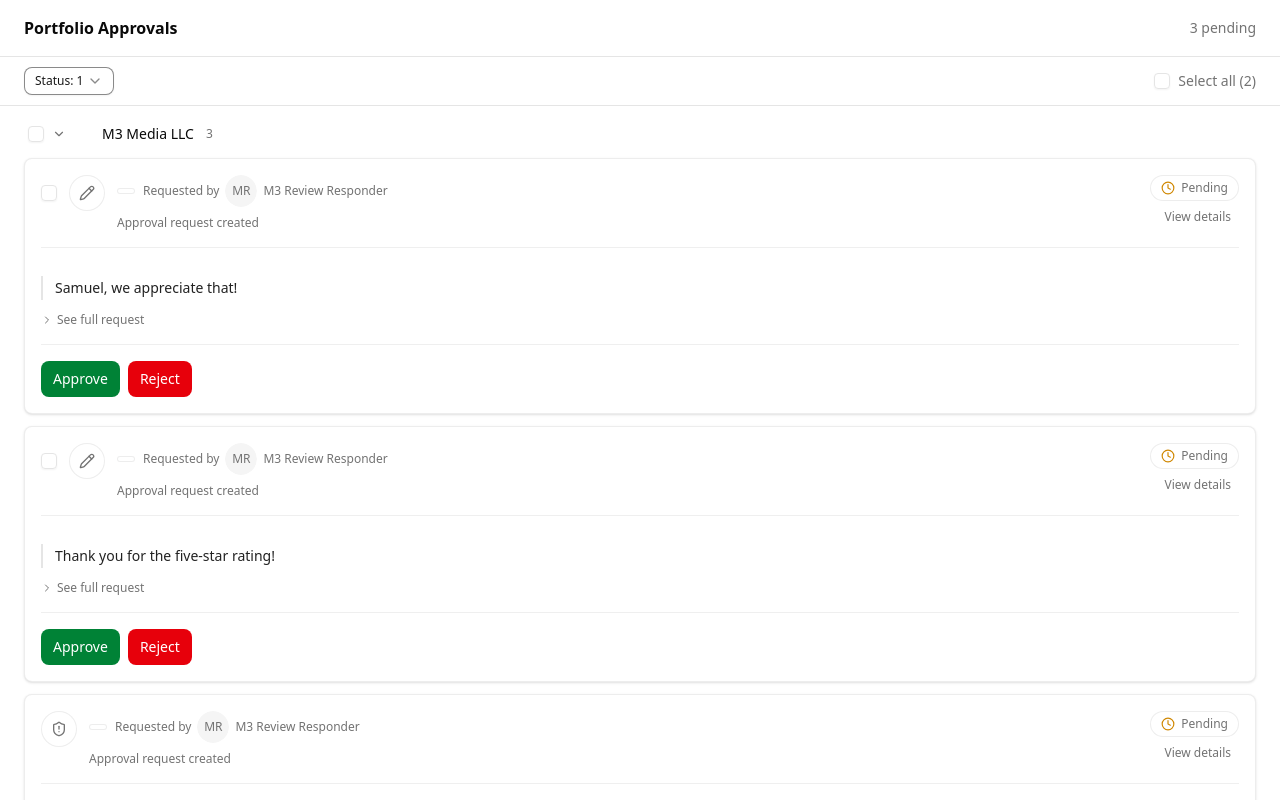
Test: PortfolioApprovals › selects every decidable request at once and approves them together
Step 1. Click the checkbox named "Select all approvals" → click(1162, 81), box x1=1154 y1=73 x2=1170 y2=89
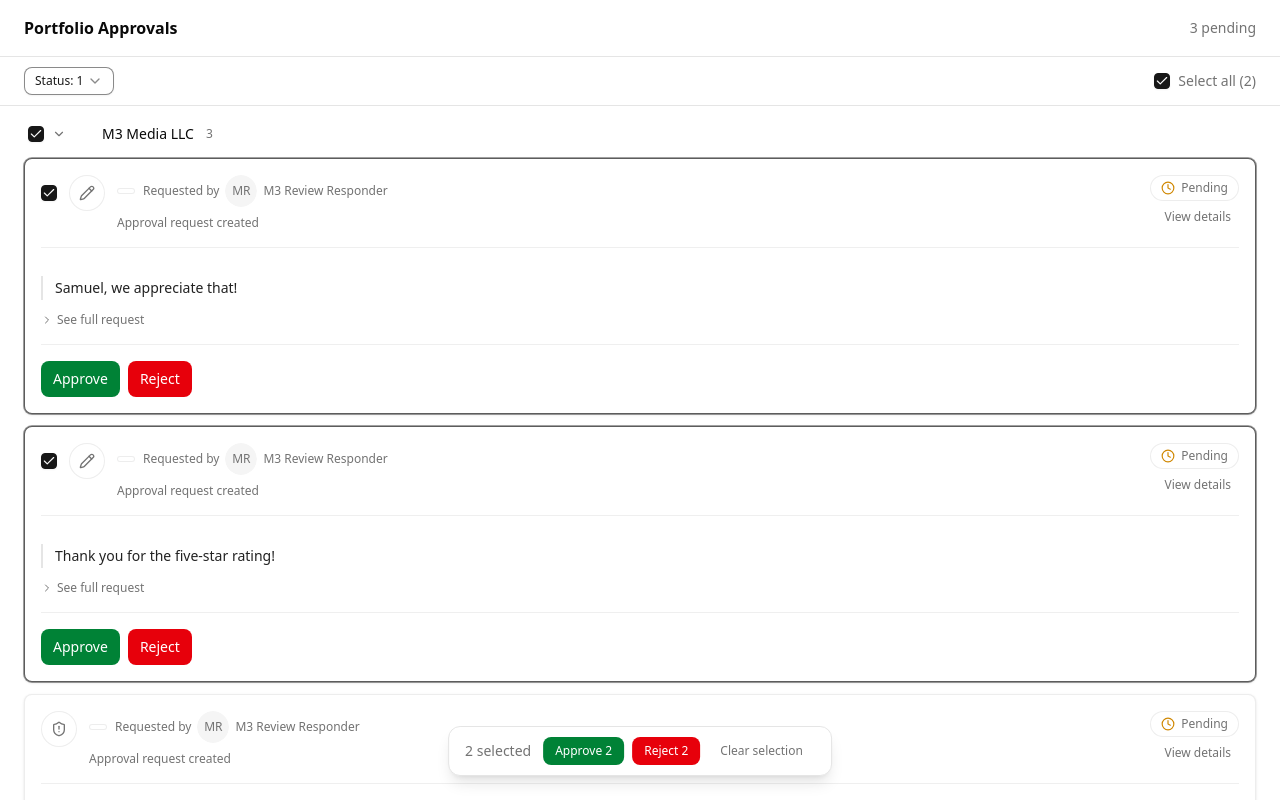
expect the text "2 selected" is shown: met, box x1=465 y1=741 x2=531 y2=761
Step 2. Click the button "Approve 2" → click(584, 751), box x1=543 y1=737 x2=624 y2=765
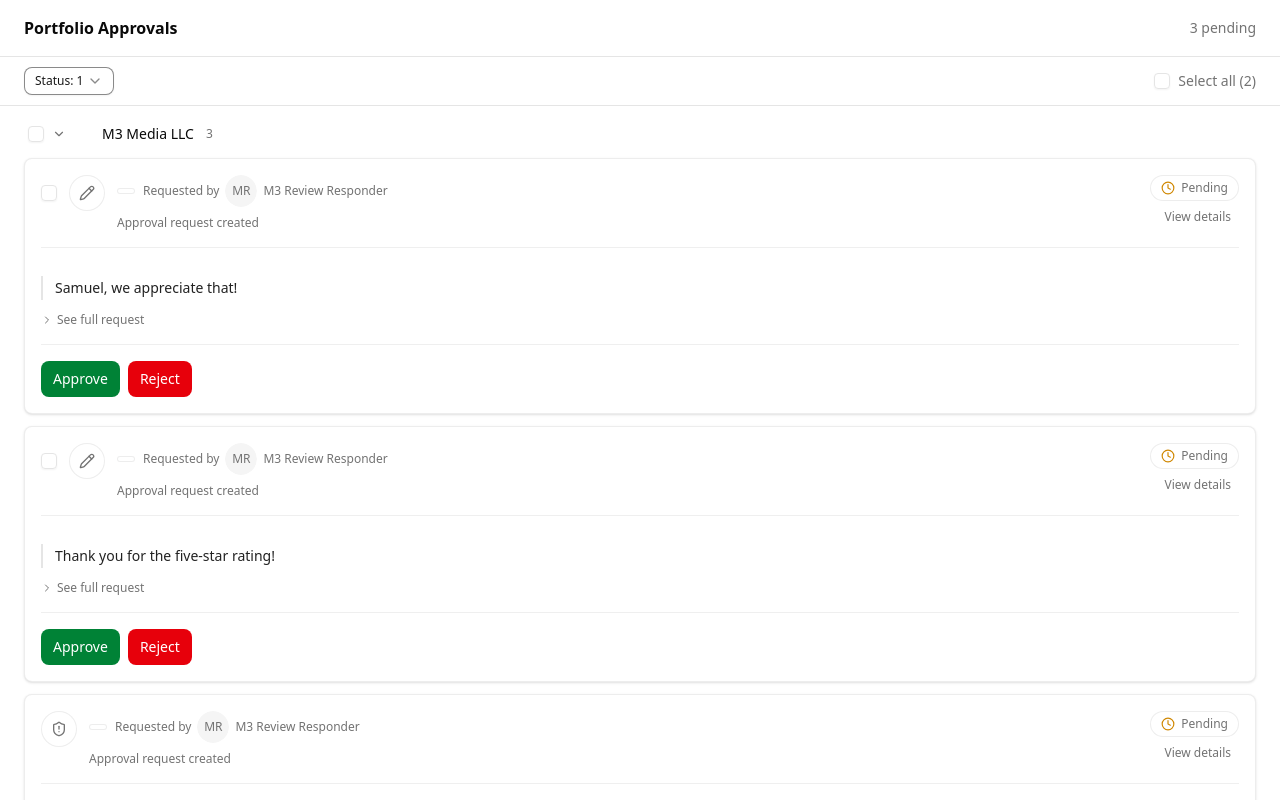
expect the text "selected" is gone: met
